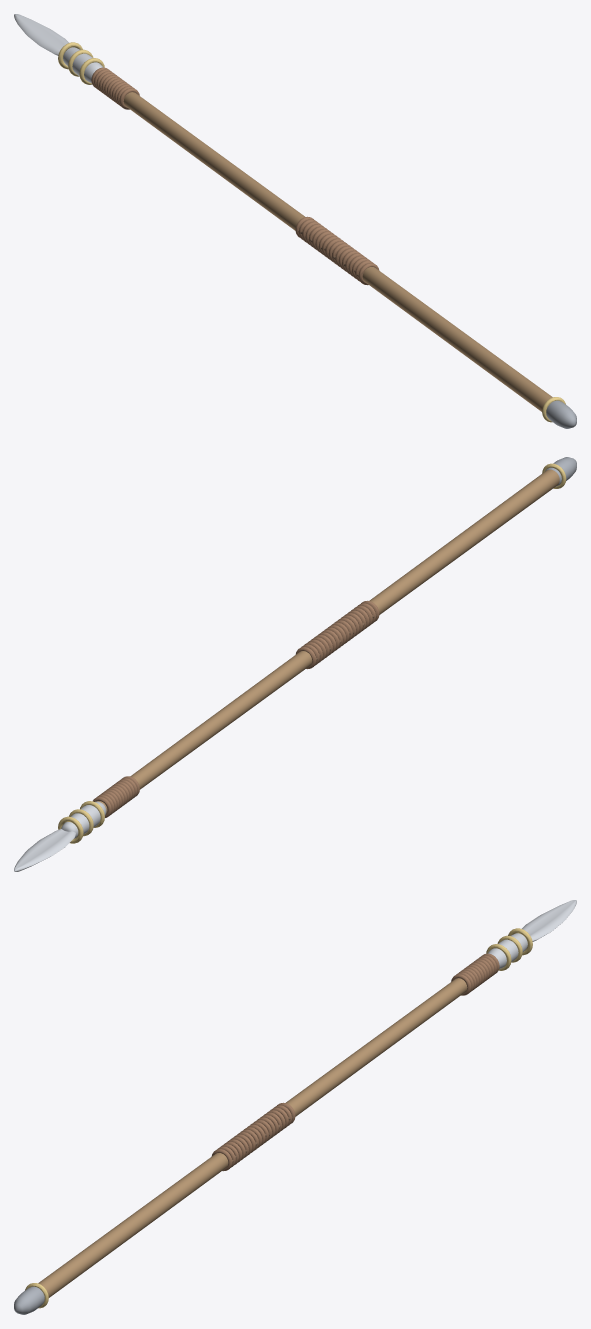
File: th31_speer.glb
3 views of the same model, one above another, from view 1: azimuth 30°, elevation 25°; view 2: azimuth 150°, elevation 25°; view 3: azimuth 330°, elevation 25° (orthographic).
Visible parts, largest first — view 1: Dreh, Klinge, Dreh.002, Dreh.001; view 2: Dreh, Klinge, Dreh.001; view 3: Dreh, Klinge, Dreh.002, Dreh.001.
Boxes of the visible parts, x1=… form: Dreh: x1=123, y1=92, x2=552, y2=411; Klinge: x1=14, y1=14, x2=68, y2=55; Dreh.002: x1=546, y1=400, x2=576, y2=428; Dreh.001: x1=63, y1=47, x2=103, y2=82; Dreh: x1=96, y1=469, x2=559, y2=813; Klinge: x1=14, y1=829, x2=75, y2=871; Dreh.001: x1=61, y1=801, x2=106, y2=838; Dreh: x1=38, y1=978, x2=467, y2=1297; Klinge: x1=522, y1=900, x2=576, y2=941; Dreh.002: x1=14, y1=1286, x2=44, y2=1314; Dreh.001: x1=487, y1=933, x2=527, y2=968.
Bounding box in the file's own units: 0.0595 × 0.0565 × 2.2.
